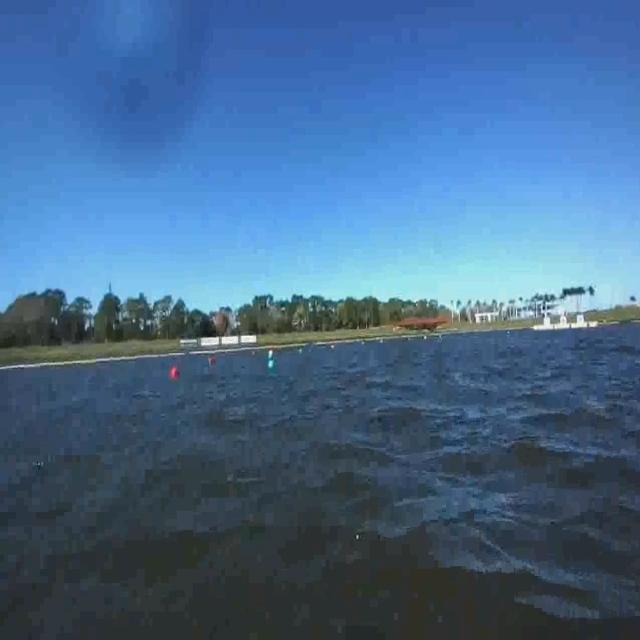green-buoy: (265, 356, 276, 372)
red-buoy: (171, 366, 178, 378)
